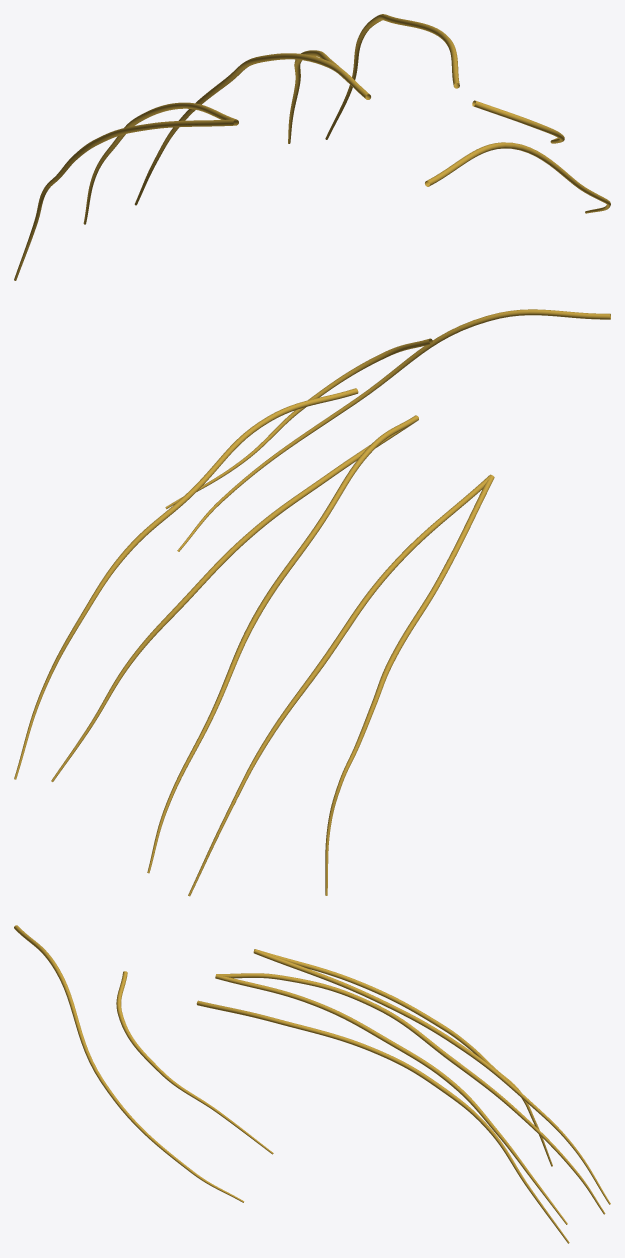
3 renders of one model, top to bottom at view 1: azimuth 30°, elevation 25°; view 2: azimuth 150°, elevation 25°; view 3: azimuth 270°, elevation 25°, orthographic. The views are drawn at different scales.
Visible parts, largest first — view 1: 左侧正中神经指掌侧固有神经; view 2: 左侧正中神经指掌侧固有神经; view 3: 左侧正中神经指掌侧固有神经.
Boxes of the visible parts, x1,y1,x2,y2 form: 左侧正中神经指掌侧固有神经: (14,14,610,280); 左侧正中神经指掌侧固有神经: (14,309,610,896); 左侧正中神经指掌侧固有神经: (14,925,610,1243).
Bounding box in the file's own units: 0.0987 × 0.09 × 0.186.
